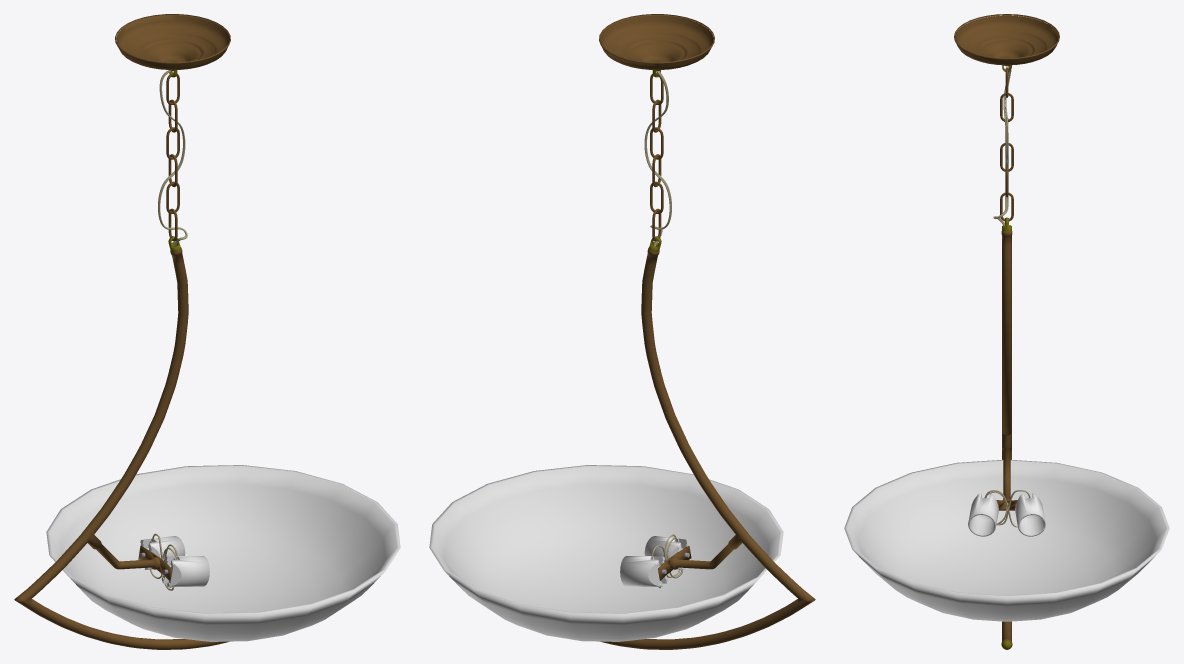
File: simpleChandeliernpnocam.fbx
3 renders of one model, left to right at view 1: azimuth 30°, elevation 25°; view 2: azimuth 150°, elevation 25°; view 3: azimuth 270°, elevation 25°, orthographic. The views are drawn at different scales.
Visible parts, largest first — view 1: Dish, Frame, Canopy, lampSocket, chain; view 2: Dish, Frame, Canopy, lampSocket, chain; view 3: Dish, Canopy, Frame, lampSocket, chain.
Boxes of the visible parts, left/top/right/bottom form: Dish: left=46, top=465, right=400, bottom=641; Frame: left=14, top=247, right=229, bottom=649; Canopy: left=115, top=14, right=230, bottom=69; lampSocket: left=138, top=536, right=209, bottom=587; chain: left=166, top=72, right=179, bottom=241; Dish: left=429, top=465, right=783, bottom=641; Frame: left=600, top=247, right=815, bottom=649; Canopy: left=599, top=14, right=714, bottom=69; lampSocket: left=620, top=536, right=691, bottom=587; chain: left=650, top=72, right=663, bottom=241; Dish: left=844, top=459, right=1169, bottom=621; Canopy: left=954, top=14, right=1059, bottom=65; Frame: left=1001, top=231, right=1012, bottom=649; lampSocket: left=968, top=493, right=1045, bottom=536; chain: left=1000, top=67, right=1013, bottom=221.
Bounding box in the file's own units: 47.42 × 76.99 × 40.3.
